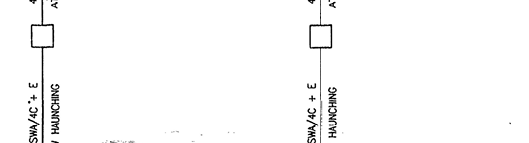Cable Termination Box: (21, 14, 70, 58), (302, 15, 346, 63)
